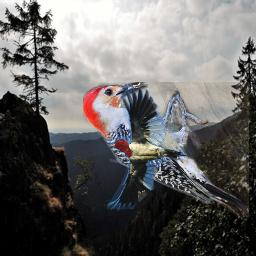Woodpecker: (83, 82, 249, 217), (107, 87, 187, 211)
